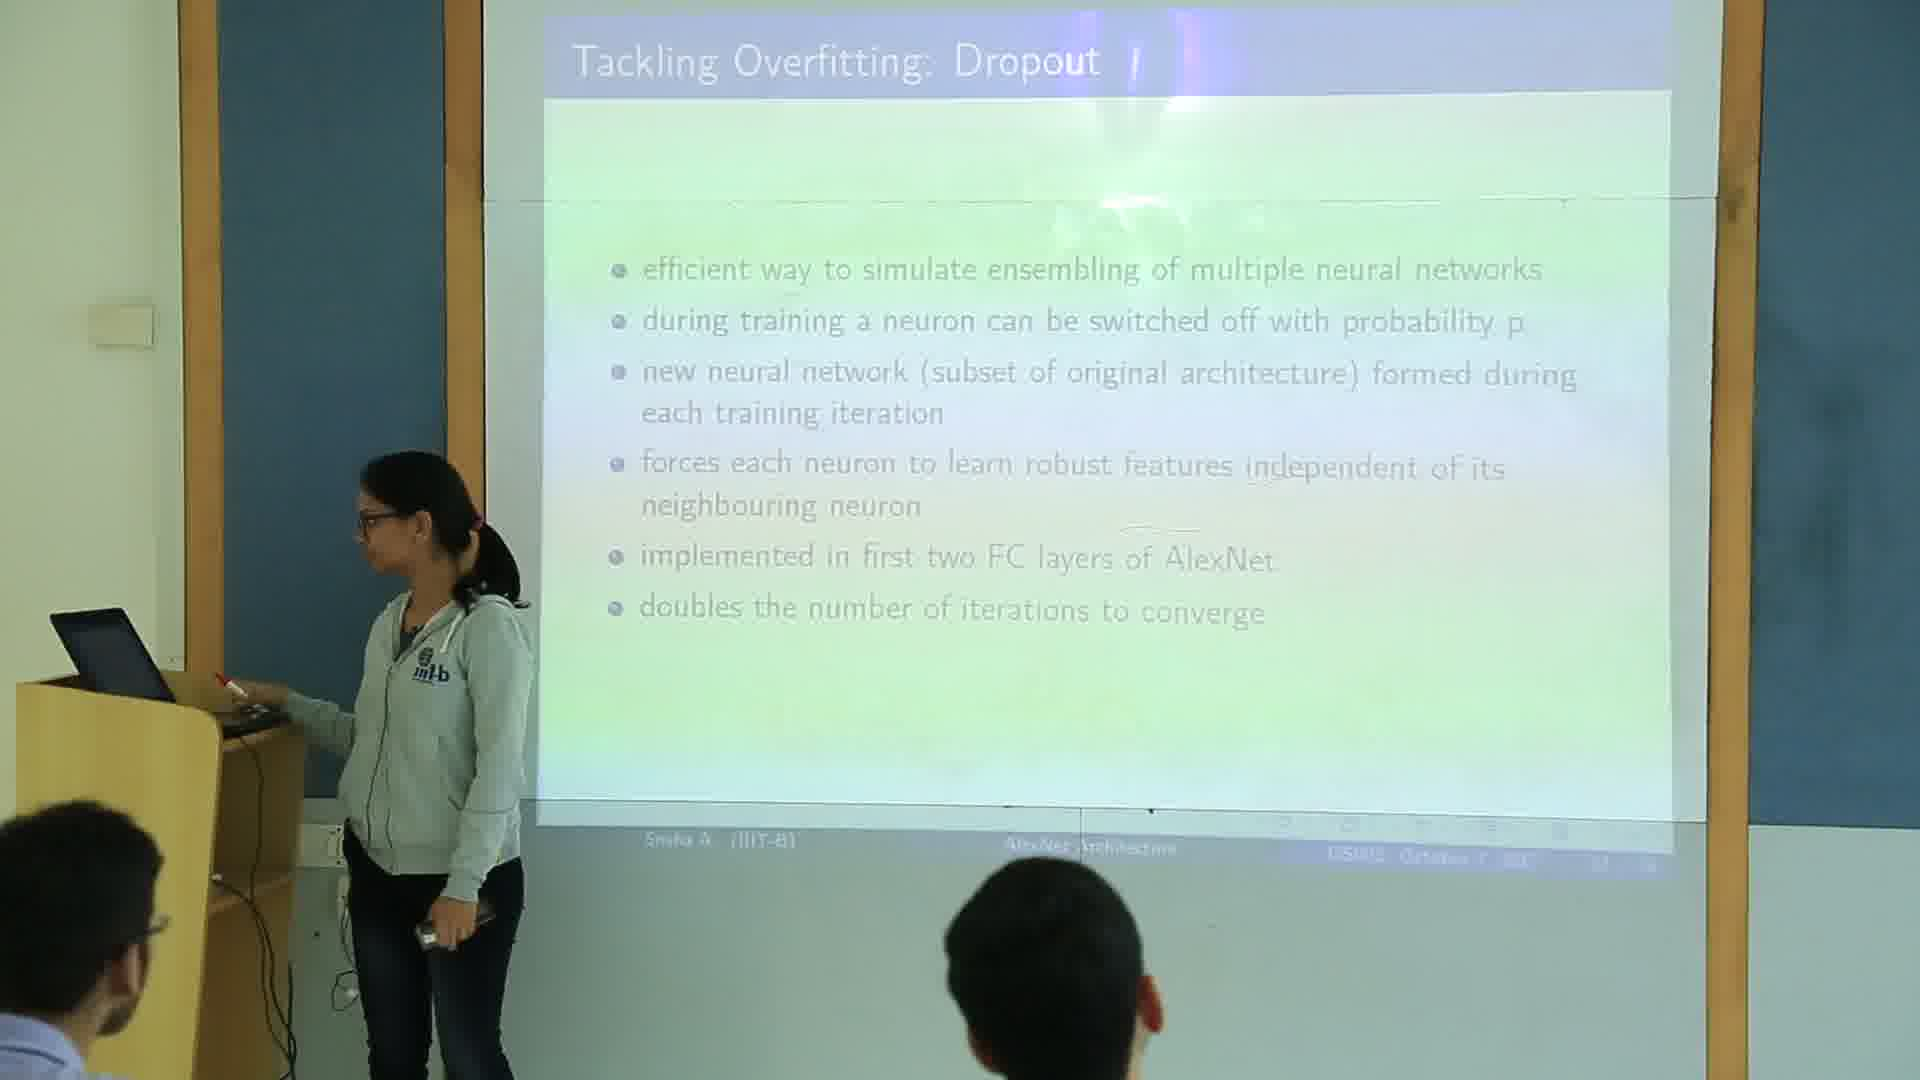slide: (542, 7, 1677, 882)
